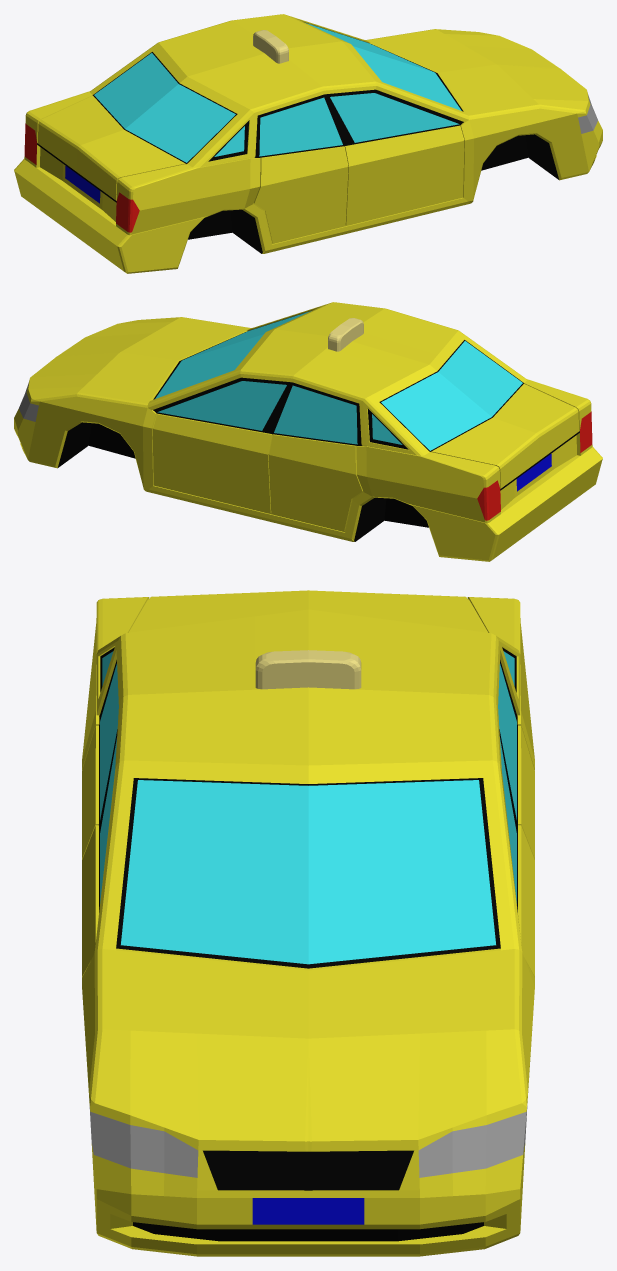
The model's file is taxi.fbx.
3 views of the same model, one above another, from view 1: azimuth 30°, elevation 25°; view 2: azimuth 150°, elevation 25°; view 3: azimuth 270°, elevation 25° (orthographic). The views are drawn at different scales.
Parts seen in each view (by area): view 1: Cube; view 2: Cube; view 3: Cube.
Part boxes in pixels (<box>): Cube: <box>14,14,602,273</box>; Cube: <box>14,302,602,561</box>; Cube: <box>82,590,534,1256</box>.
Size of the model in its own units: 381 by 120 by 150.
